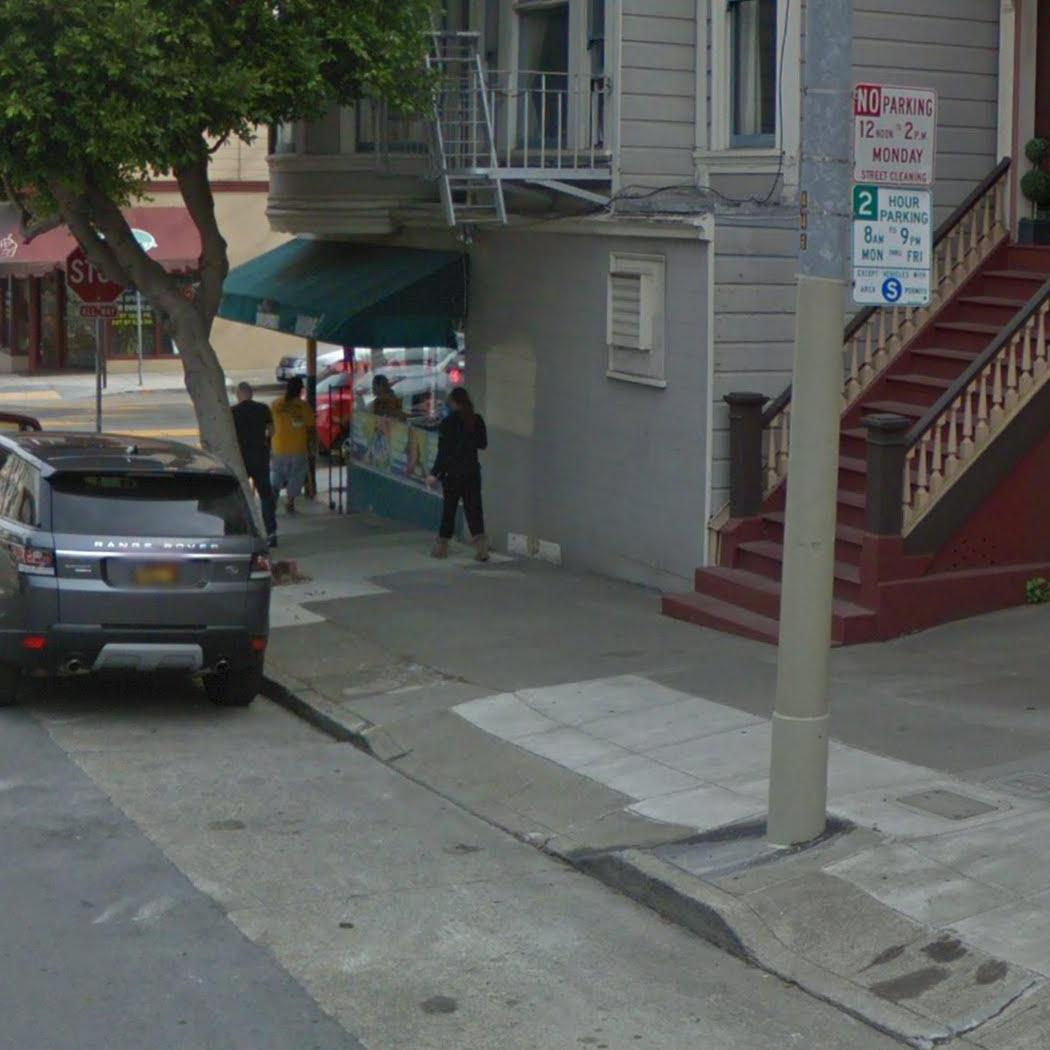2 Hour Parking: (848, 187, 933, 306)
No Parking: (848, 82, 938, 189)
